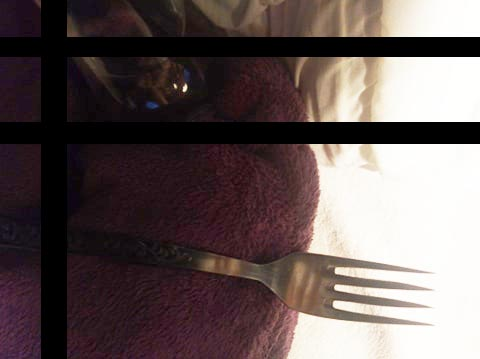Widelec: (269, 246, 436, 328)
